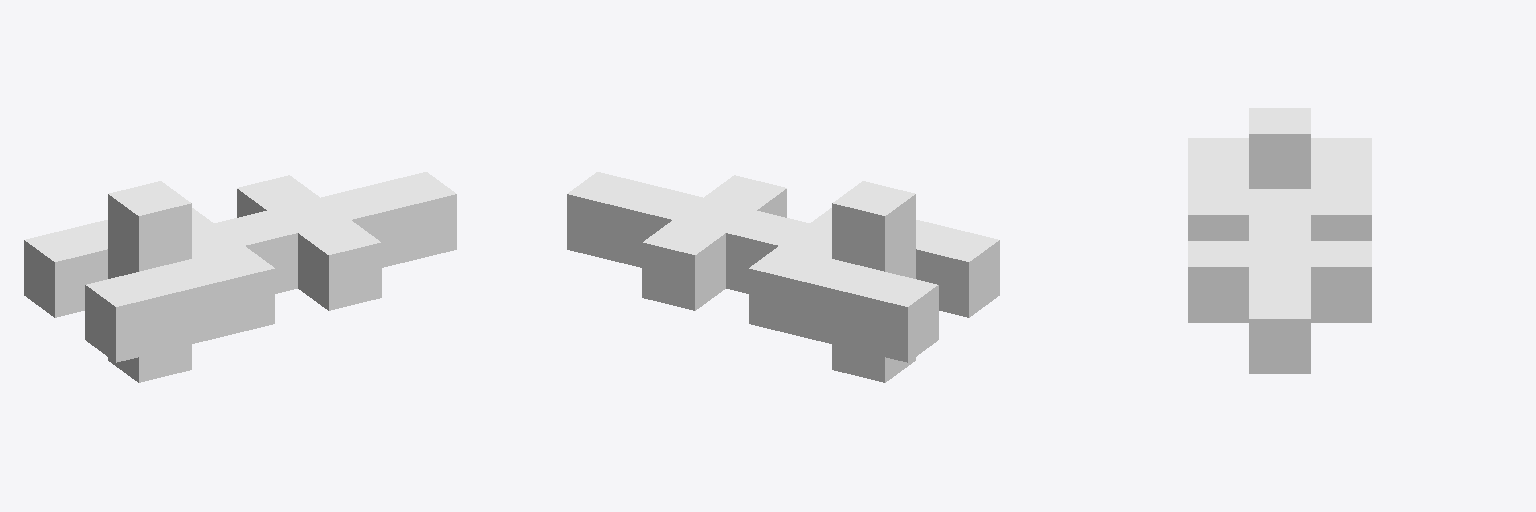
Rendered from MissileProjectileSmall1.obj.
3 renders of one model, left to right at view 1: azimuth 30°, elevation 25°; view 2: azimuth 150°, elevation 25°; view 3: azimuth 270°, elevation 25°, orthographic.
Bounding box in the file's own units: 7 × 3 × 3.